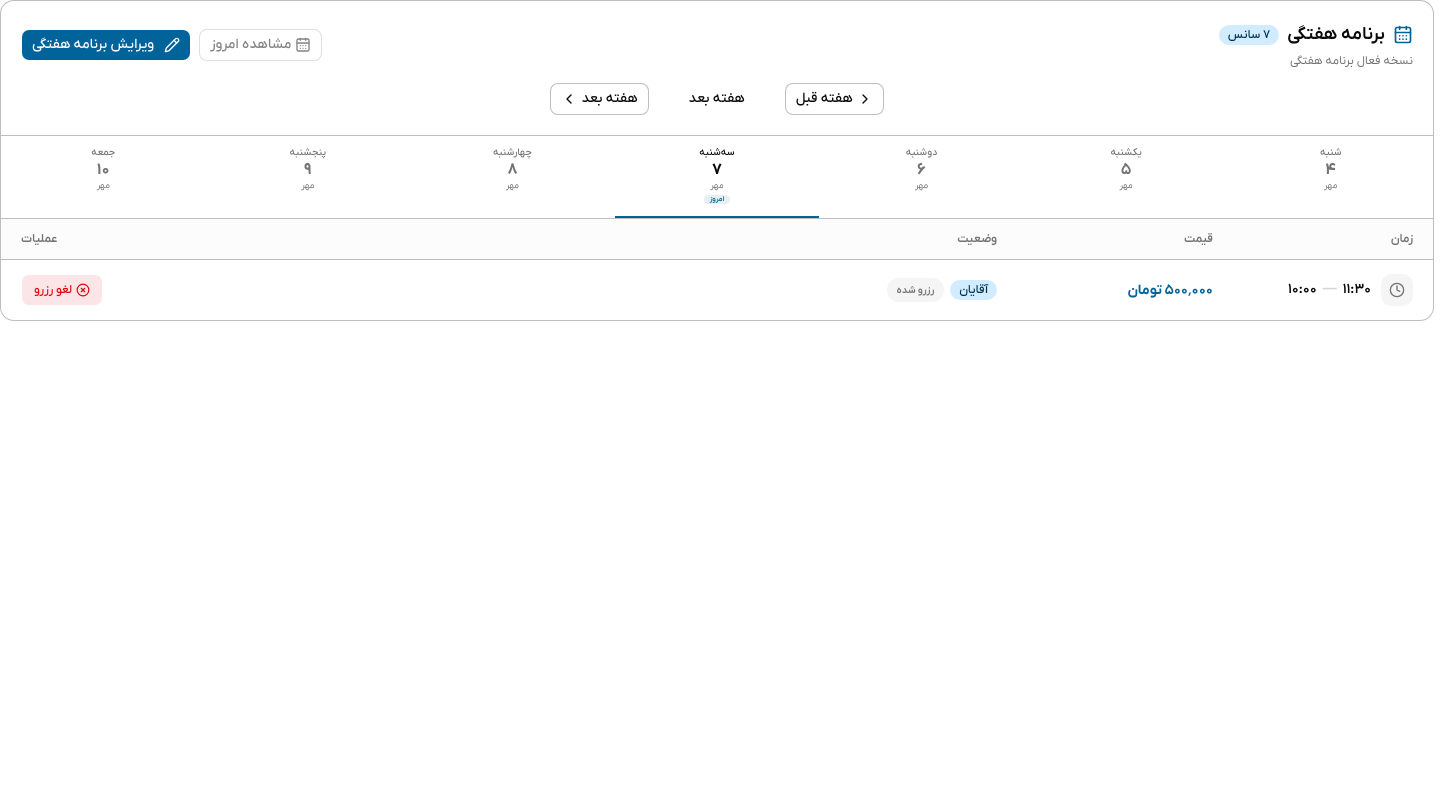
Scenario: VendorScheduleTab › opens cancel dialog for a reserved slot
Click the button "چهارشنبه ۸ مهر": (512, 177) [410,136,615,218]
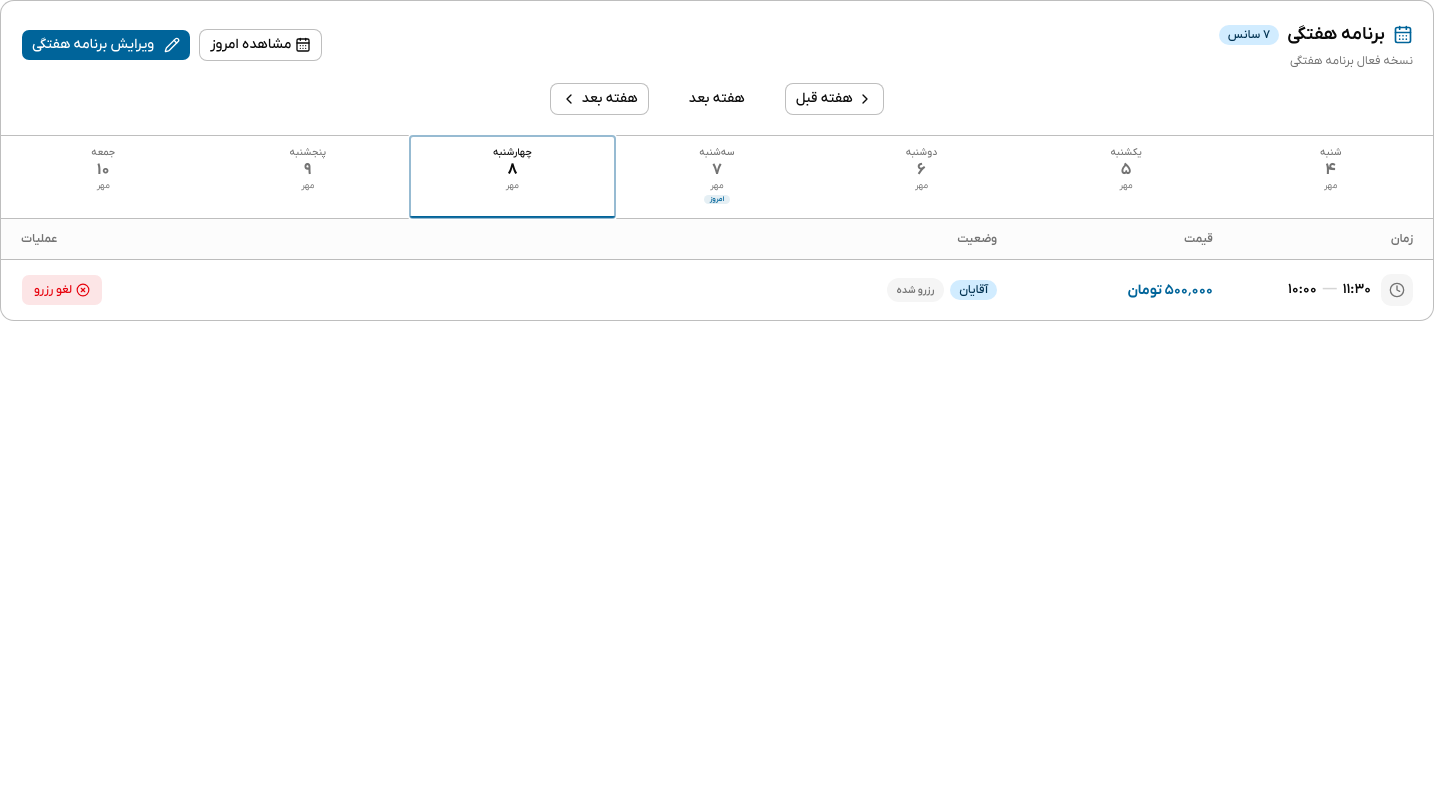
Expected: the text "رزرو شده" is shown, [886,278,944,302]
Click the button "لغو رزرو": (62, 290) [21,274,103,306]
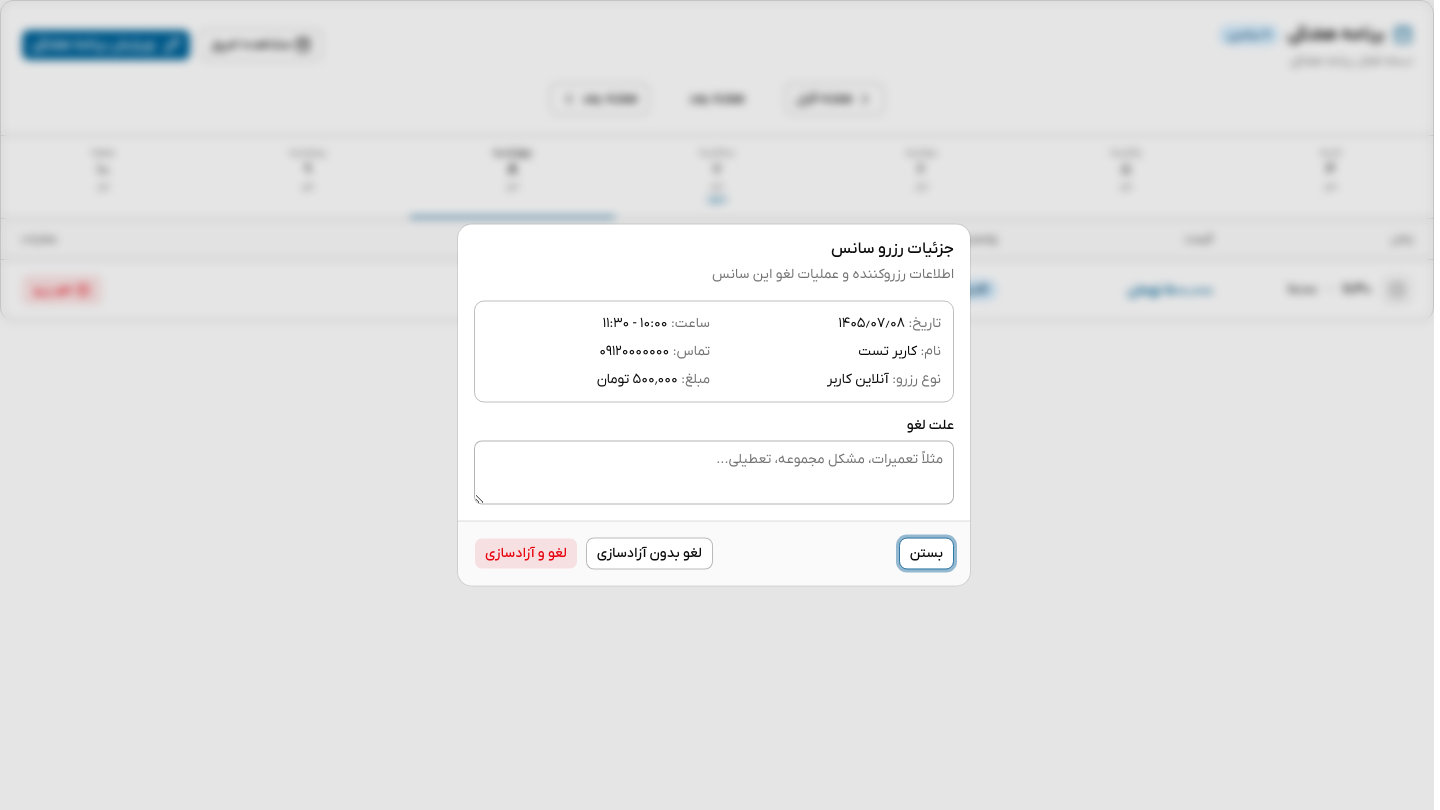
Expected: the heading "جزئیات رزرو سانس" is shown, [831,238,954,258]
Expected: the text "کاربر تست" is shown, [858,342,917,360]
Expected: the button "لغو و آزادسازی" is shown, [474,538,578,570]
